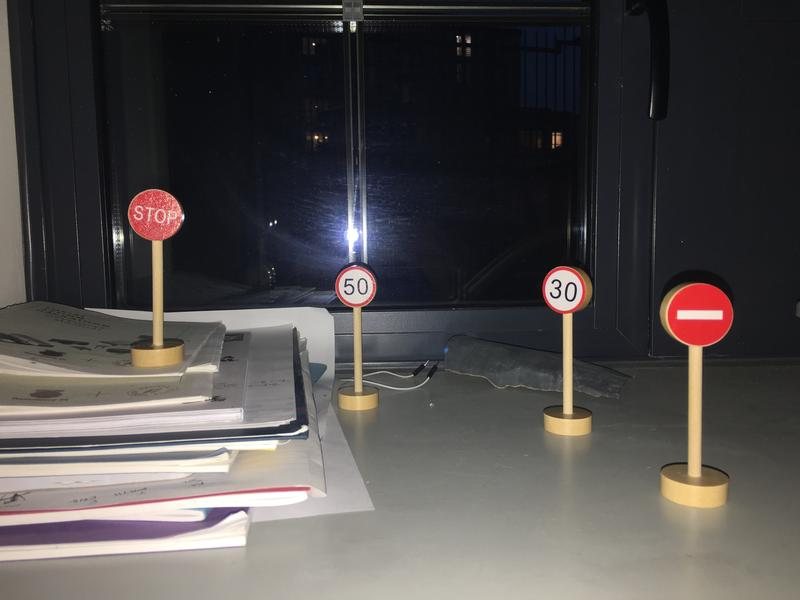Traffic_Sign_30: (542, 266, 584, 312)
Traffic_Sign_50: (335, 266, 377, 308)
Traffic_Sign_No_Entry: (666, 284, 732, 347)
Traffic_Sign_Stop: (126, 189, 183, 239)
